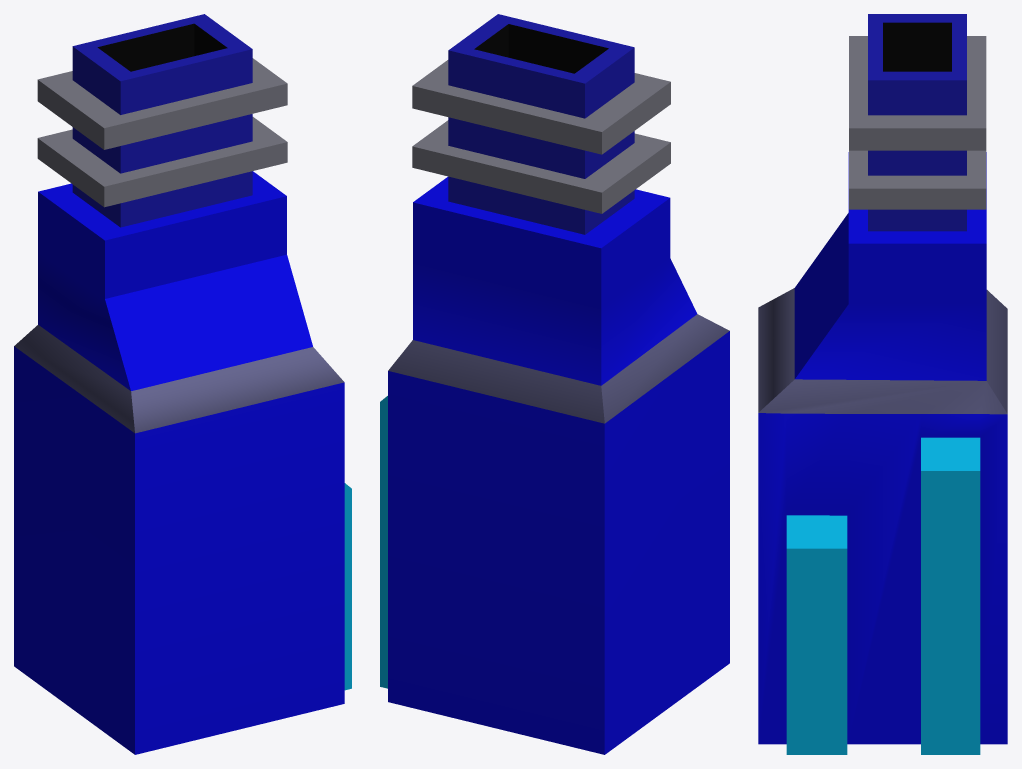
Rendered from Factory.fbx.
3 renders of one model, left to right at view 1: azimuth 30°, elevation 25°; view 2: azimuth 150°, elevation 25°; view 3: azimuth 270°, elevation 25°, orthographic. The views are drawn at different scales.
Parts seen in each view (by area): view 1: pCube2; view 2: pCube2; view 3: pCube2.
Boxes of the visible parts, <box> form: pCube2: <box>14,14,351,754</box>; pCube2: <box>380,14,729,754</box>; pCube2: <box>758,14,1007,754</box>.
Size of the model in its own units: 16.5 by 42.76 by 15.
